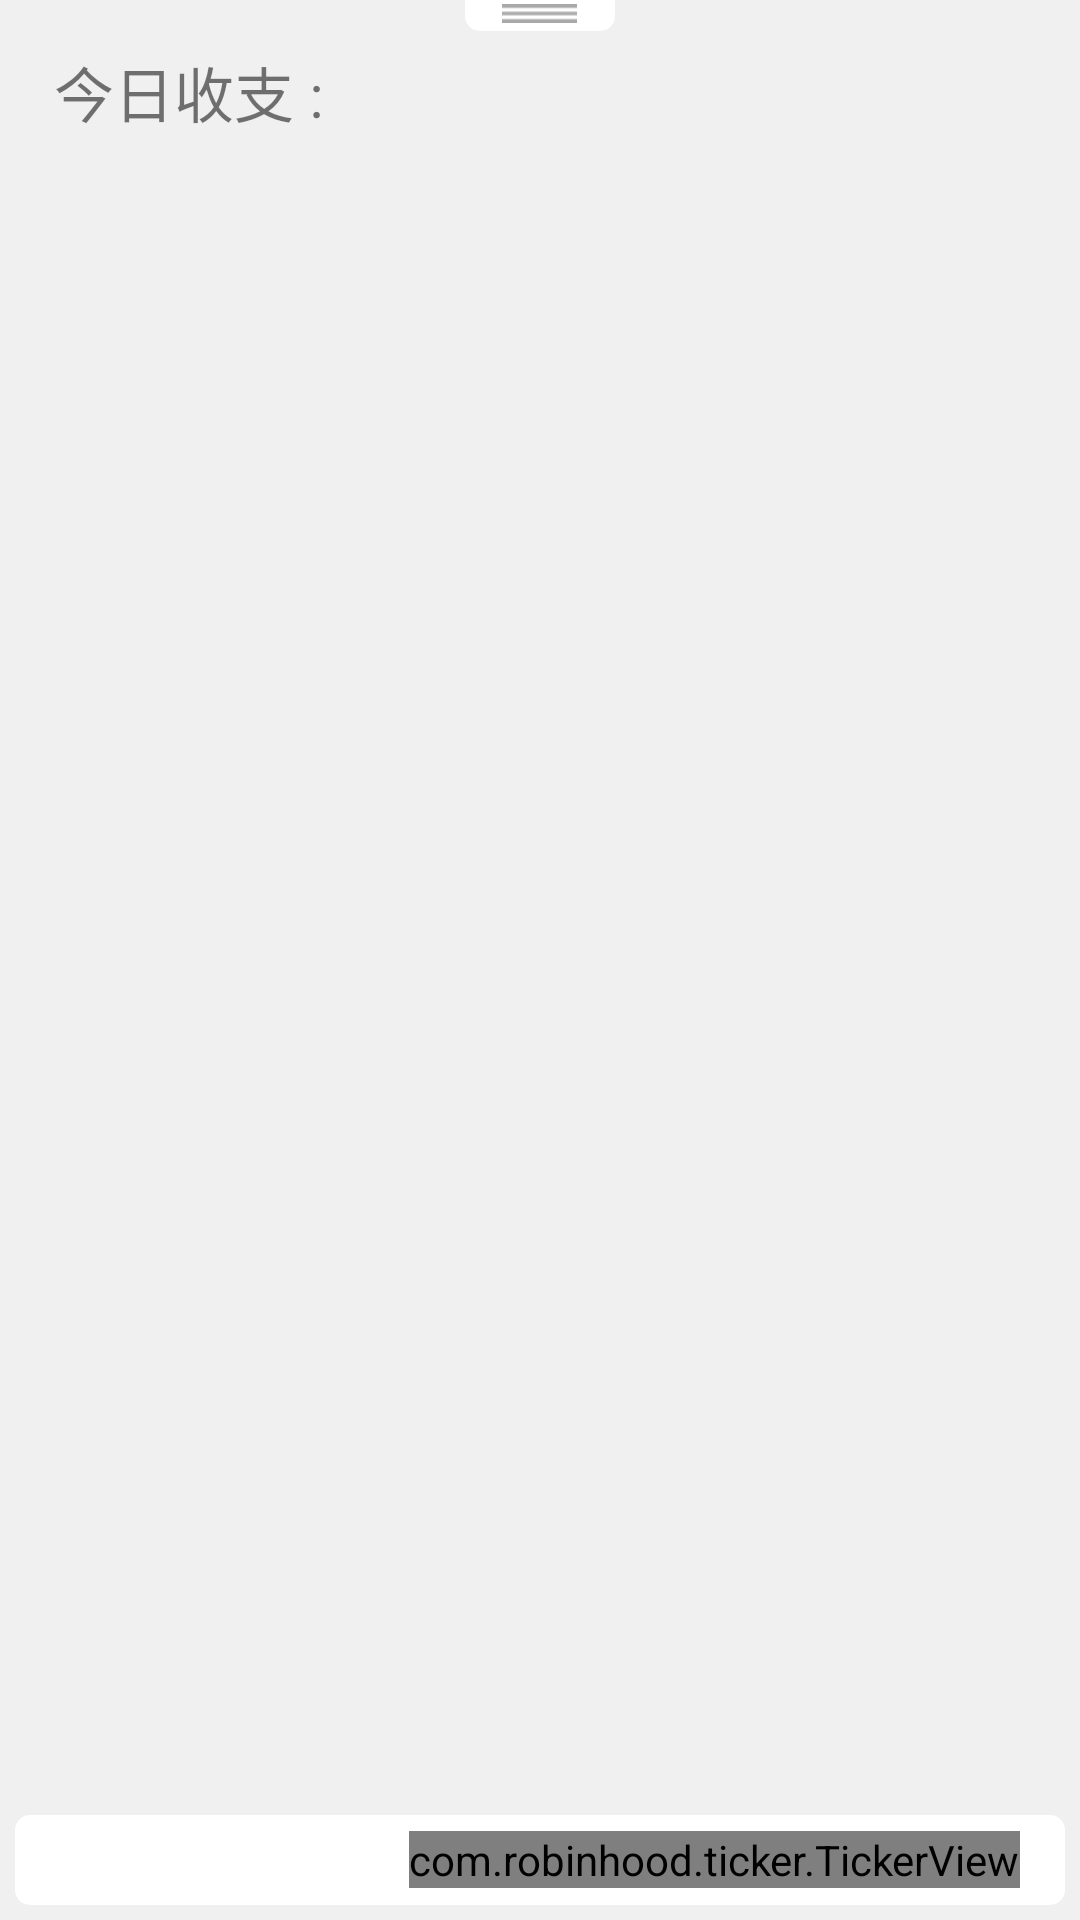

Icons on this 1080px x 1920px Android screen, each with its box as [x1,y1,x2,y2]:
up down piece: [502,4,577,23]
